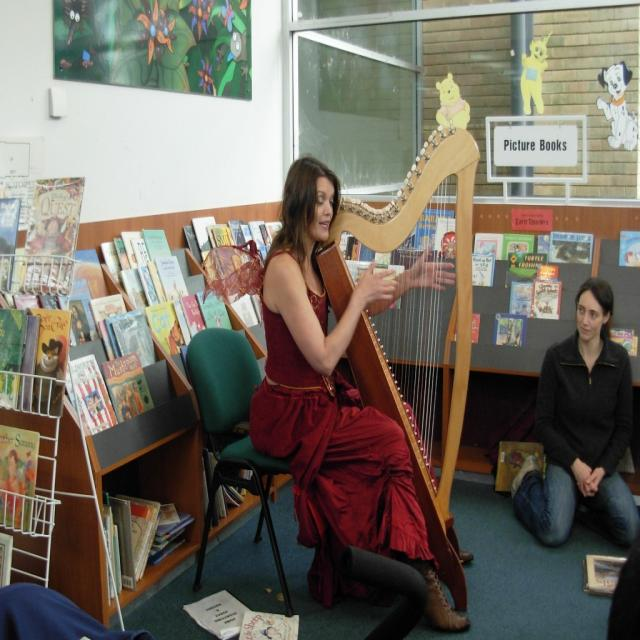harp: (317, 122, 482, 615)
